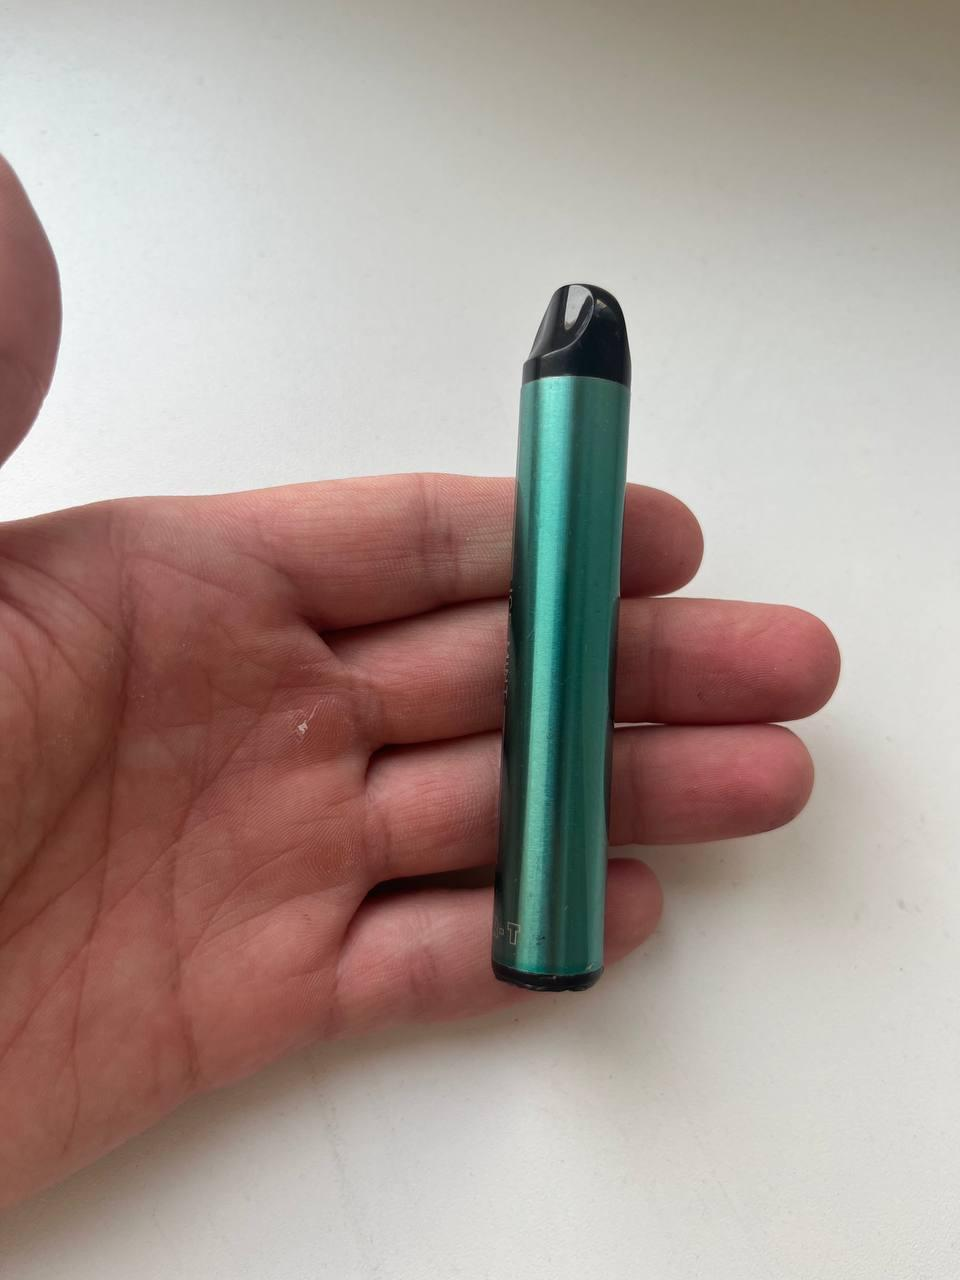Vape: (492, 283, 630, 990)
